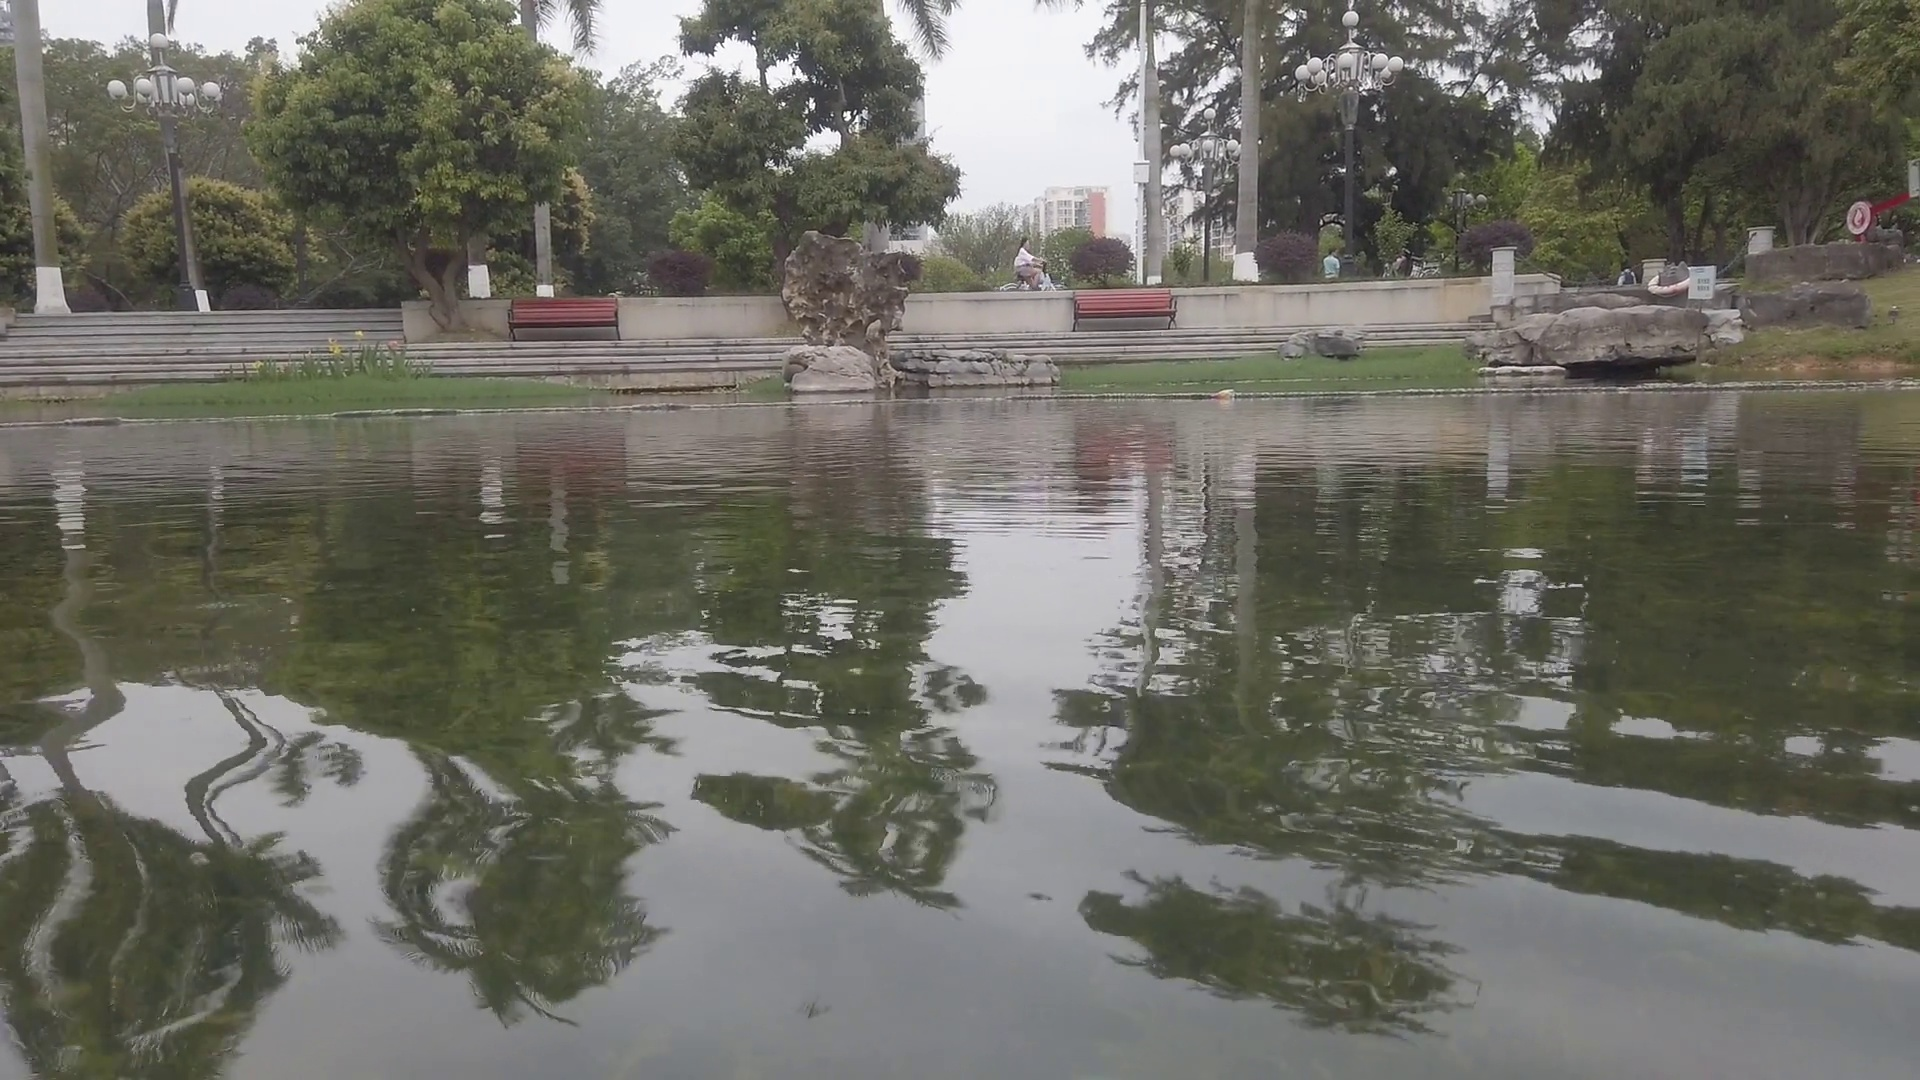bottle: (1211, 389, 1234, 400)
